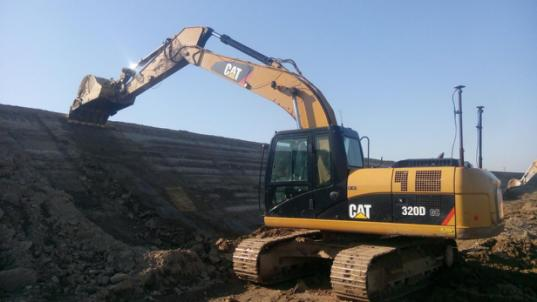excavator: (60, 27, 508, 302)
